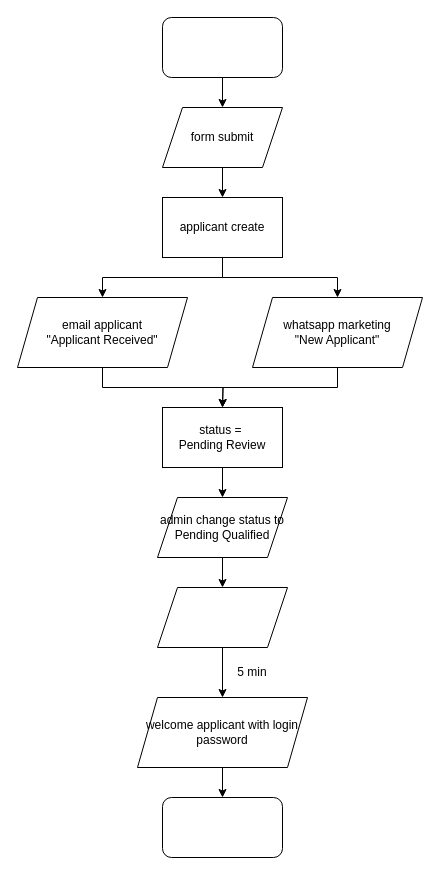
This 440x875 diagram has some shape labels left out. The shapes that lost their labels are listed below. From the top down, each one's box as (x1, y1, x2, y2) in pixels, then its label:
(162, 16, 282, 78): START
(156, 586, 288, 648): admin qualified applicant
(162, 796, 282, 858): END
